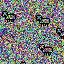sheep: (38, 43, 54, 56), (2, 10, 16, 23), (36, 15, 50, 26), (55, 27, 64, 39)
